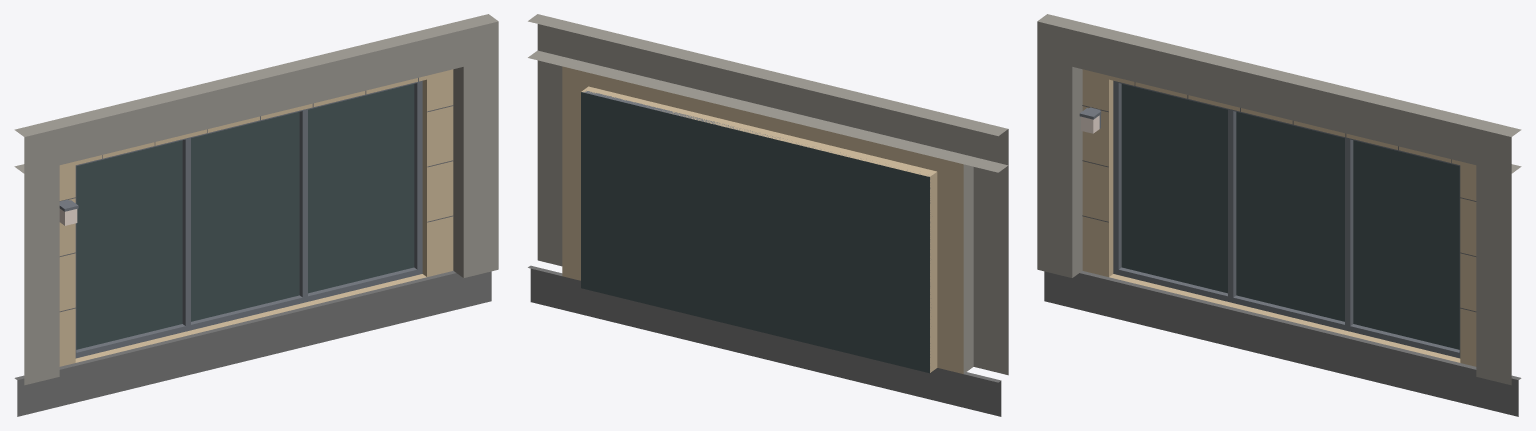
Rendered from base-w1_close.fbx.
3 renders of one model, left to right at view 1: azimuth 30°, elevation 25°; view 2: azimuth 150°, elevation 25°; view 3: azimuth 330°, elevation 25°, orthographic.
Parts seen in each view (by area): view 1: a2007/0/base-w1_close; view 2: a2007/0/base-w1_close; view 3: a2007/0/base-w1_close.
Boxes of the visible parts, left/top/right/bottom form: a2007/0/base-w1_close: left=14, top=14, right=498, bottom=416; a2007/0/base-w1_close: left=528, top=14, right=1008, bottom=416; a2007/0/base-w1_close: left=1037, top=14, right=1521, bottom=416.
Bounding box in the file's own units: 5.4 × 3.1 × 0.35.
